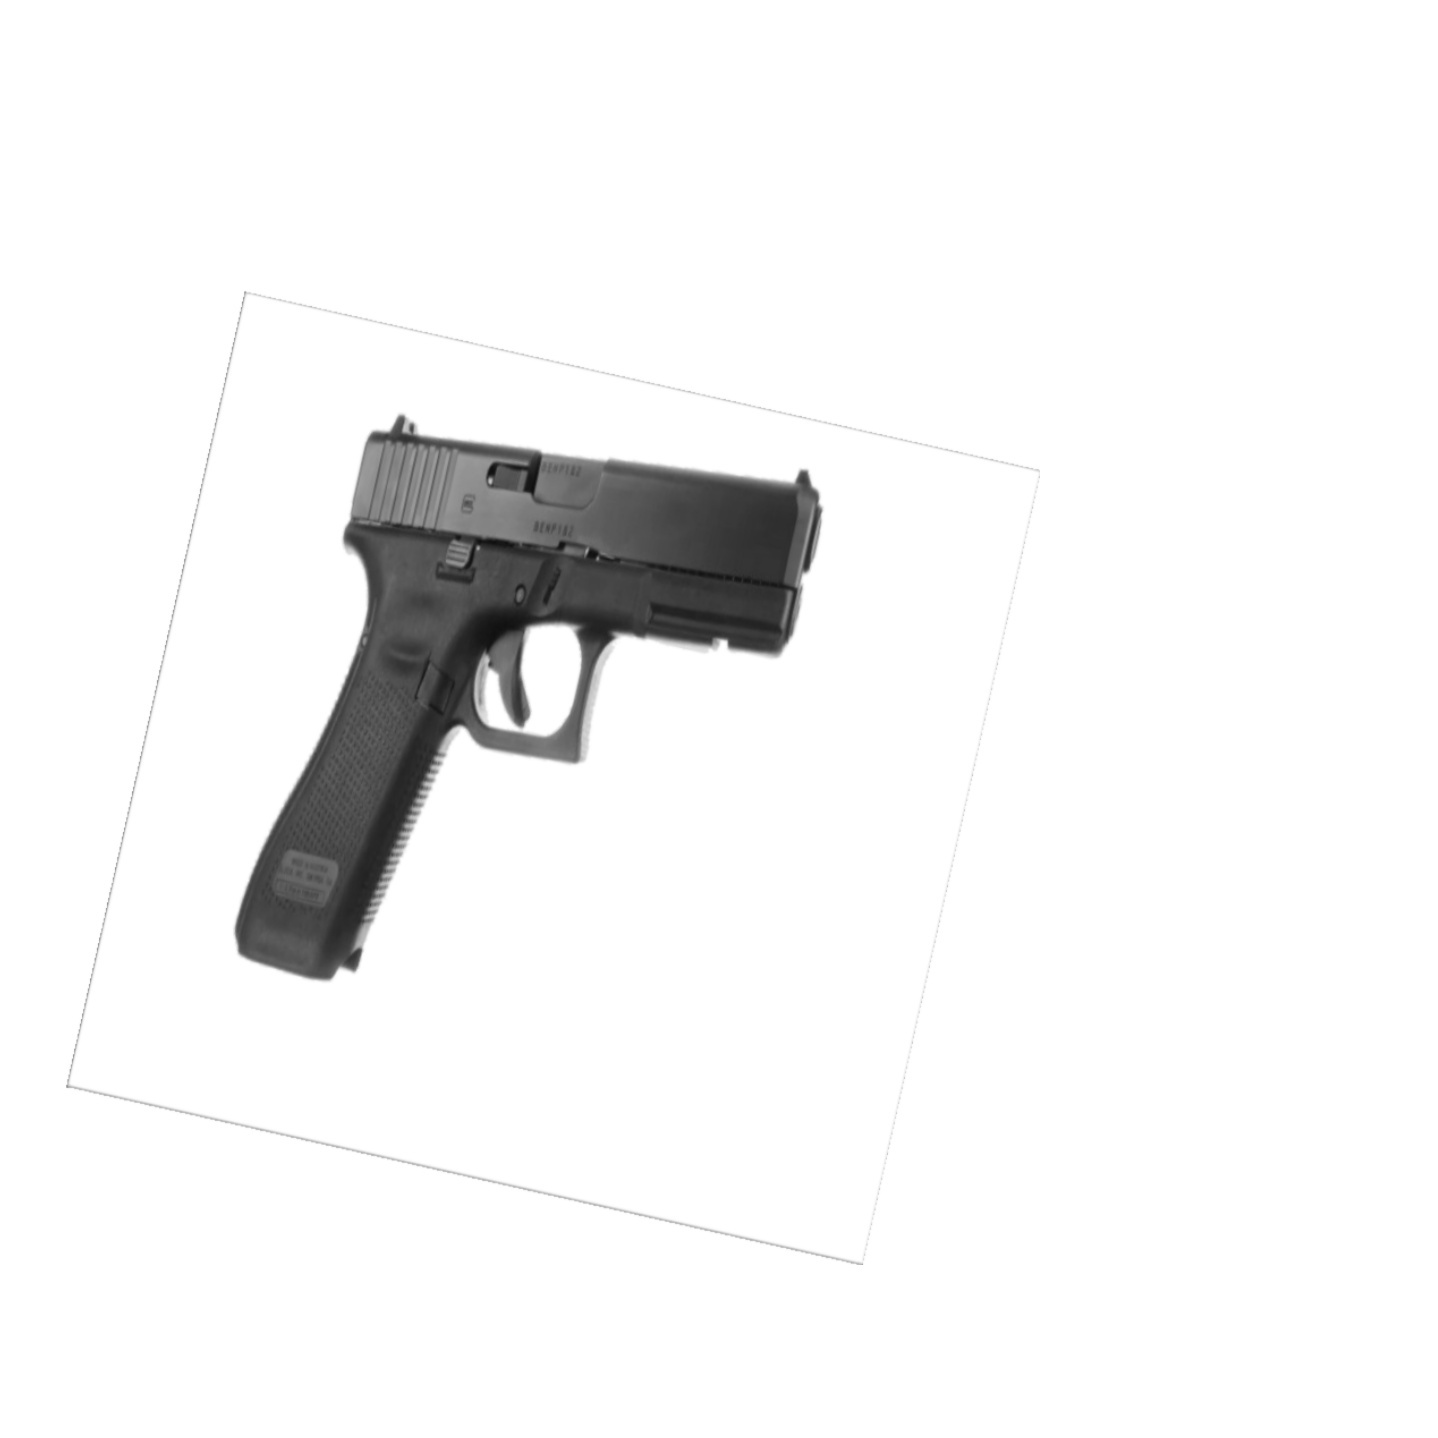gun: (223, 412, 841, 992)
